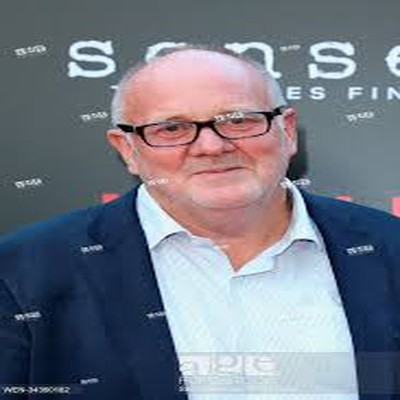eywear: (122, 96, 283, 161)
